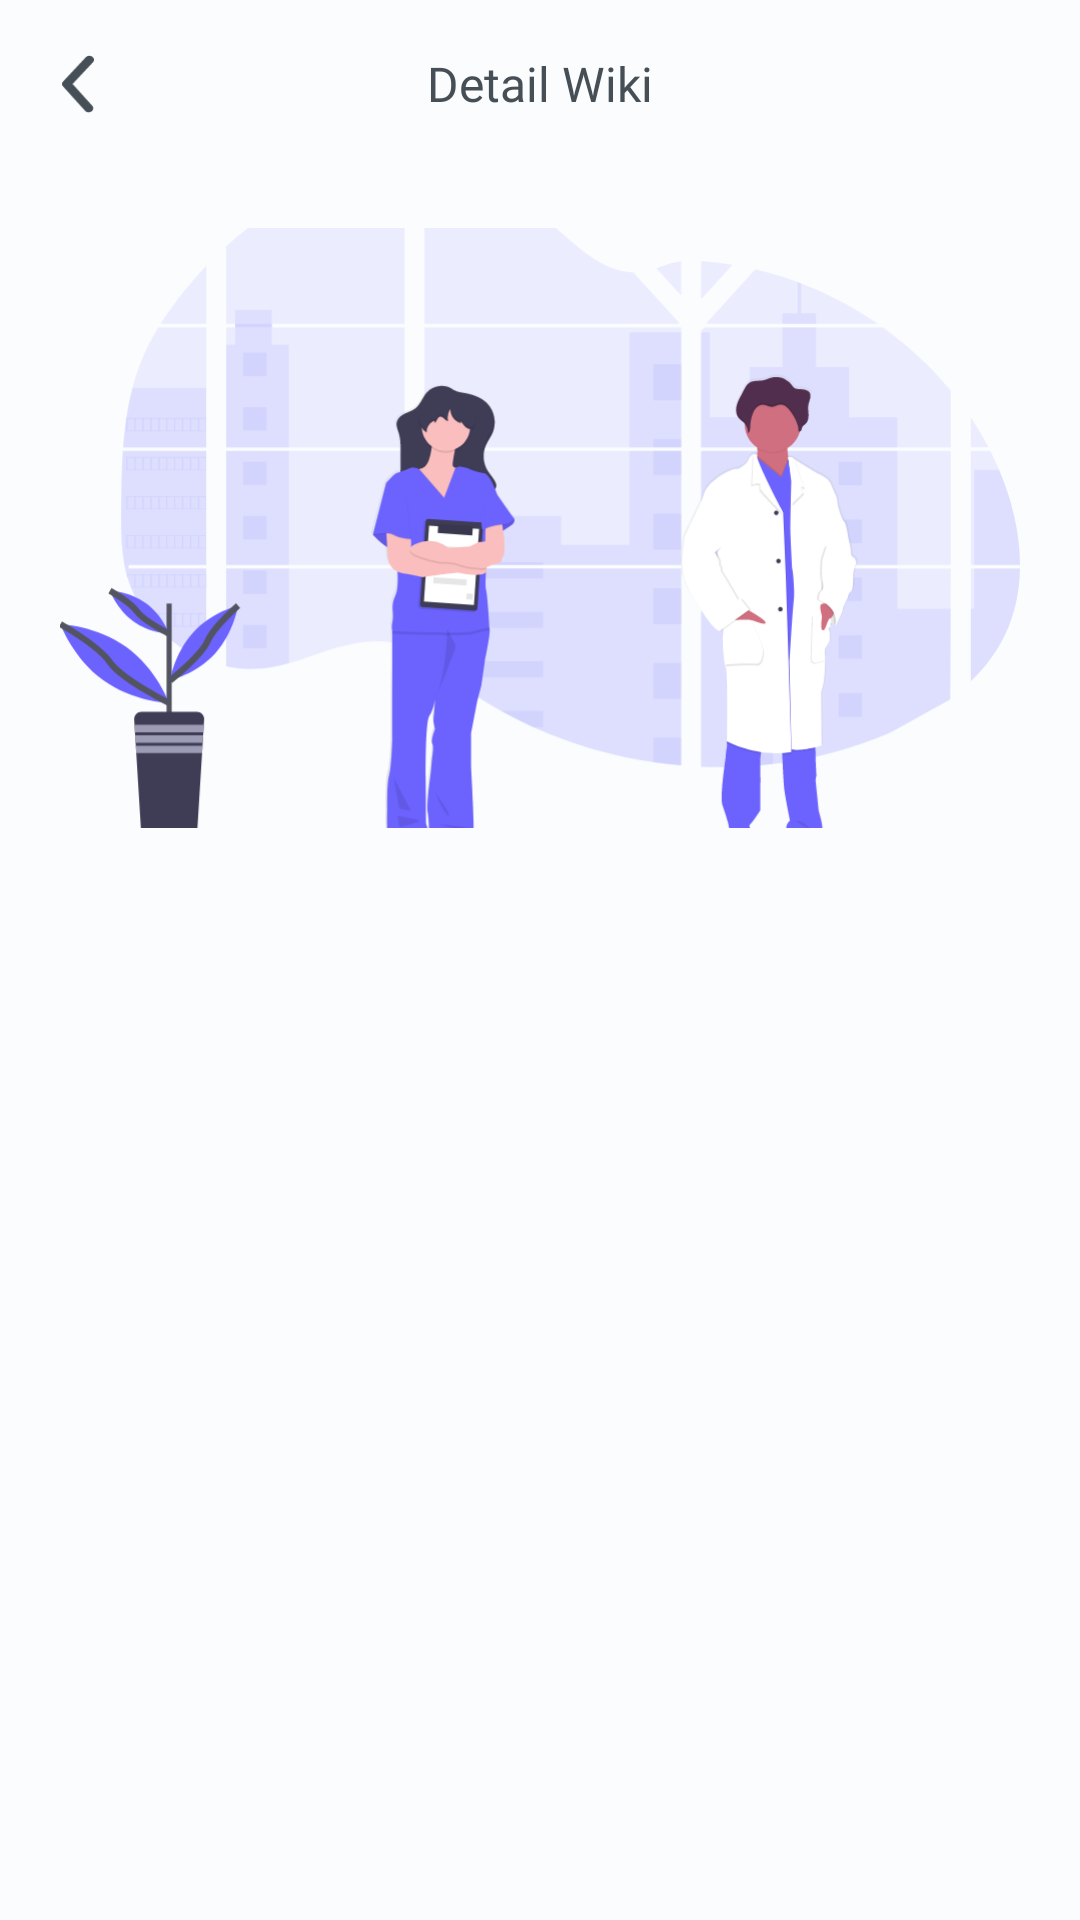

Named icons in this screenshot (1080px x 1920px) and their centers, (x,y):
back: (78,84)
